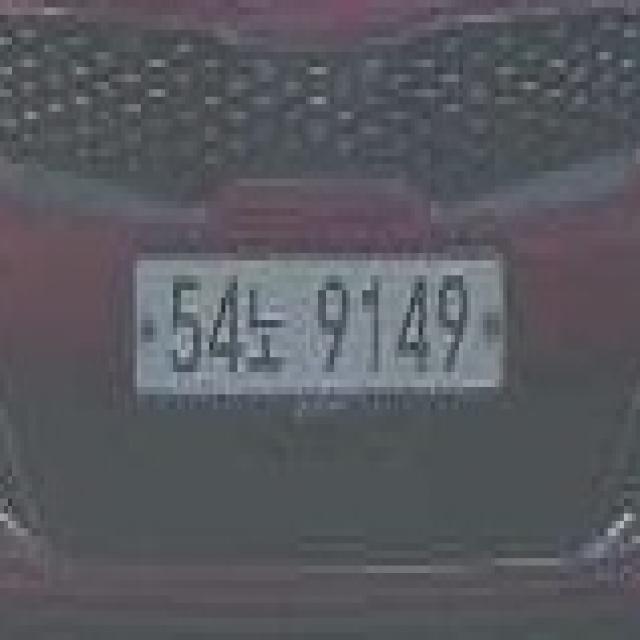1: (358, 269, 390, 382)
4: (208, 272, 247, 382), (396, 271, 434, 380)
5: (168, 274, 204, 379)
9: (314, 268, 353, 381), (438, 274, 472, 377)
license_plate: (128, 238, 520, 420)
no: (249, 272, 292, 381)
